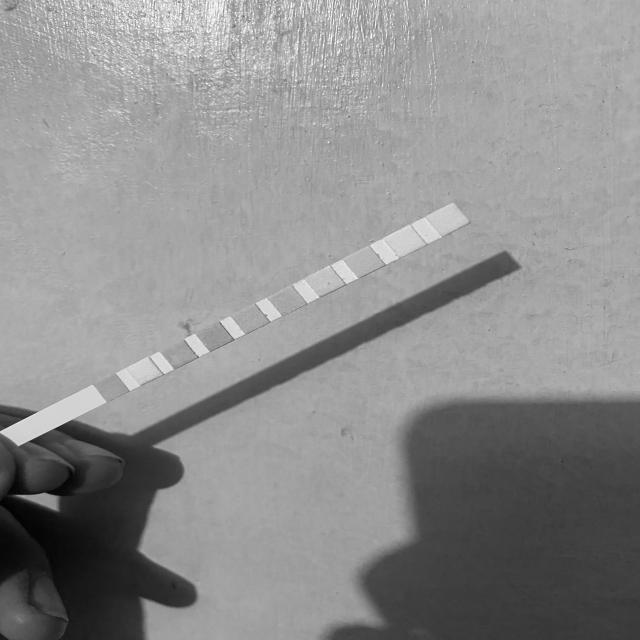Bilirubin: (136, 363, 154, 380)
Blood: (240, 311, 260, 328)
Glucose: (102, 379, 121, 396)
Ketone: (168, 347, 190, 362)
Leukocytes: (435, 212, 459, 228)
Nitrite: (393, 233, 417, 250)
Protein: (314, 274, 337, 289)
SpGravity: (204, 328, 224, 345)
Urobilinogen: (353, 254, 376, 271)
background: (0, 0, 640, 640)
pH: (276, 293, 300, 309)
strip: (2, 203, 472, 447)
